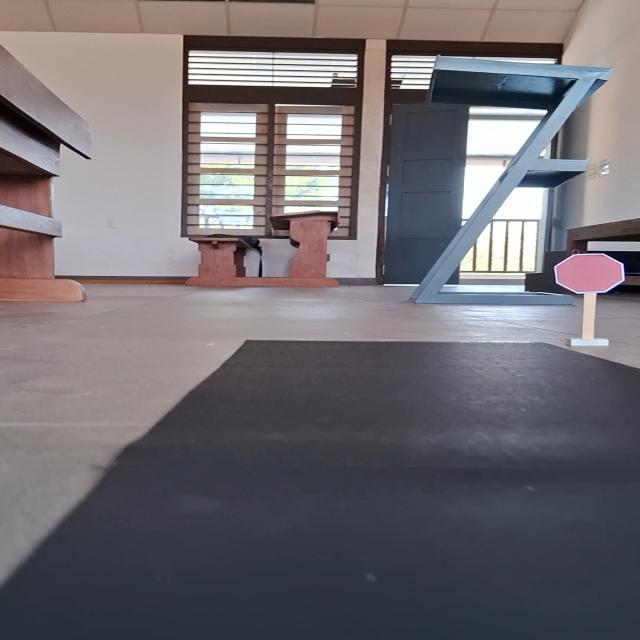Stop: (551, 253, 626, 294)
